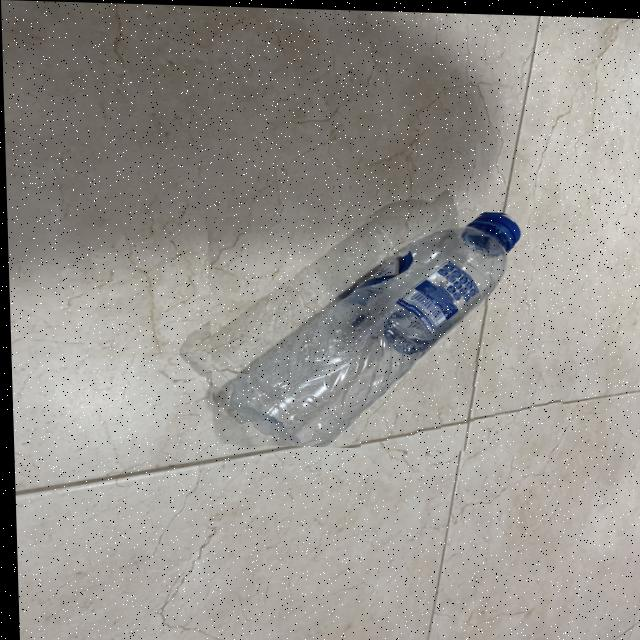litter: (204, 203, 560, 451)
